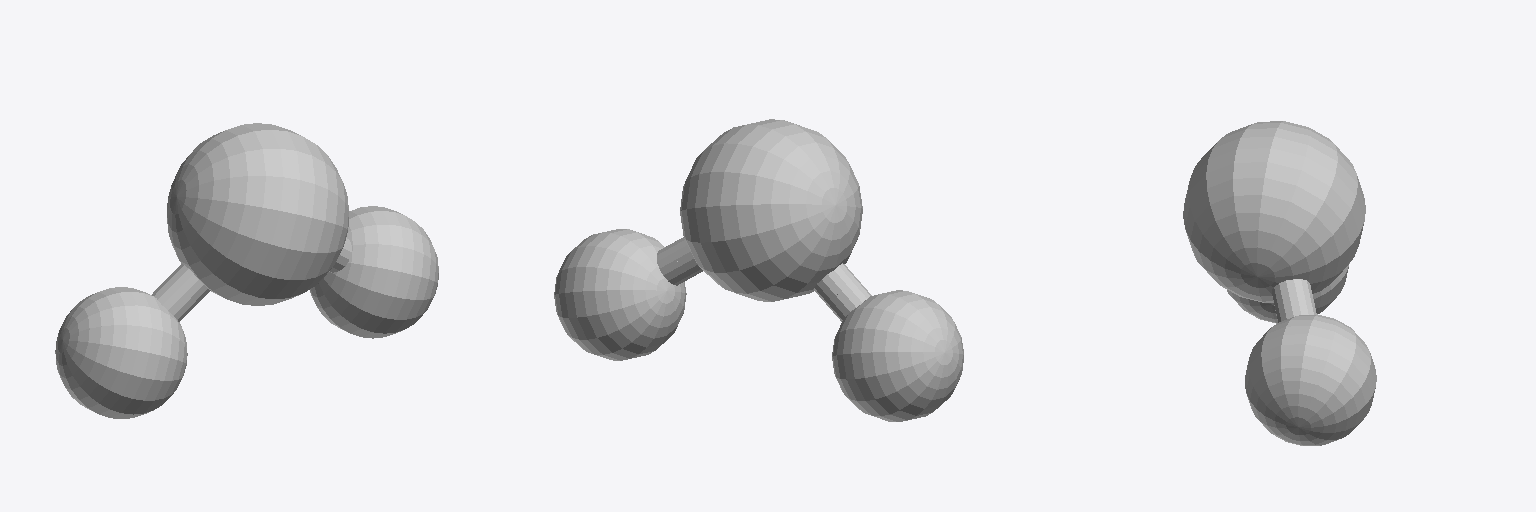
File: oxido_de_hidrogenio .obj
3 renders of one model, left to right at view 1: azimuth 30°, elevation 25°; view 2: azimuth 150°, elevation 25°; view 3: azimuth 270°, elevation 25°, orthographic.
Parts seen in each view (by area): view 1: Shape_Sphere_Shape_Sphere.001, Shape_Sphere.002_Shape_Sphere, Shape_Sphere.001_Shape_Sphere.002, Shape_Cylinder.003, Shape_Cylinder.002; view 2: Shape_Sphere_Shape_Sphere.001, Shape_Sphere.002_Shape_Sphere, Shape_Sphere.001_Shape_Sphere.002, Shape_Cylinder.003, Shape_Cylinder.002, Shape_Cylinder.001, Shape_Cylinder; view 3: Shape_Sphere_Shape_Sphere.001, Shape_Sphere.001_Shape_Sphere.002, Shape_Sphere.002_Shape_Sphere, Shape_Cylinder, Shape_Cylinder.001.
Part boxes in pixels (x1,y1,x2,y2): Shape_Sphere_Shape_Sphere.001: (167, 123, 348, 305); Shape_Sphere.002_Shape_Sphere: (55, 287, 187, 418); Shape_Sphere.001_Shape_Sphere.002: (310, 206, 438, 338); Shape_Cylinder.003: (152, 279, 194, 321); Shape_Cylinder.002: (167, 264, 210, 305); Shape_Sphere_Shape_Sphere.001: (680, 119, 862, 301); Shape_Sphere.002_Shape_Sphere: (832, 290, 963, 421); Shape_Sphere.001_Shape_Sphere.002: (554, 229, 686, 360); Shape_Cylinder.003: (828, 280, 871, 321); Shape_Cylinder.002: (814, 263, 857, 305); Shape_Cylinder.001: (657, 241, 693, 285); Shape_Cylinder: (673, 237, 702, 275); Shape_Sphere_Shape_Sphere.001: (1183, 121, 1365, 302); Shape_Sphere.001_Shape_Sphere.002: (1245, 314, 1376, 445); Shape_Sphere.002_Shape_Sphere: (1227, 263, 1349, 323); Shape_Cylinder: (1272, 279, 1313, 310); Shape_Cylinder.001: (1275, 297, 1316, 322).
Bounding box in the file's own units: 2.18 × 1.39 × 0.9656.